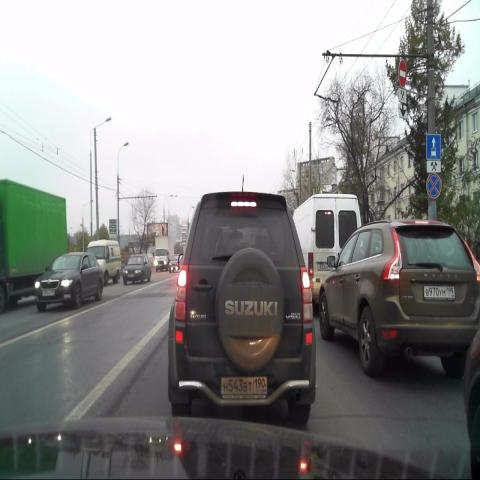3_1: (397, 59, 407, 88)
5_14: (426, 132, 441, 158)
